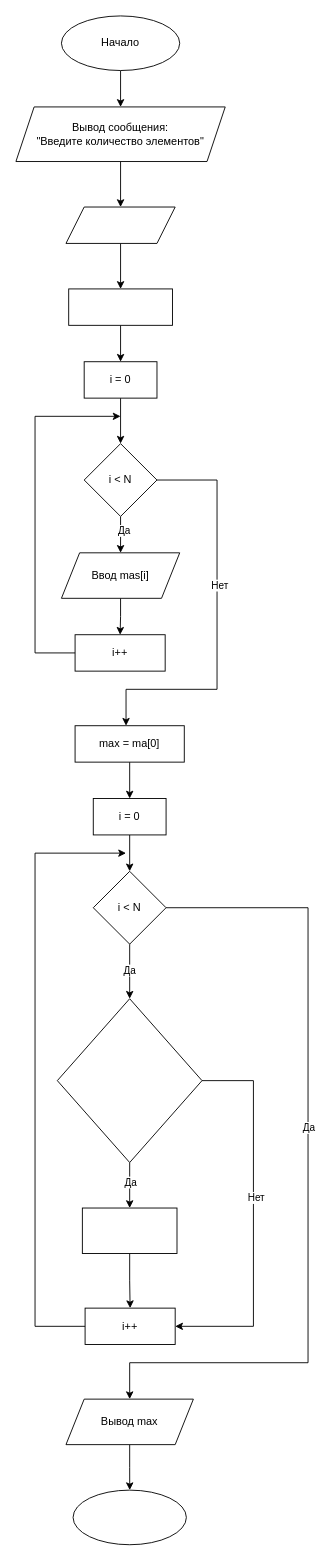
Some shapes in this 331 by 1561 pixel diagram are drawn without their labels. The shapes that lost their labels are listed below. From the top down, each one's centre as x and y in pixels, then its label:
[120,224]: Ввод N
[120,306]: *mas = new int[N]
[129,1080]: mas[i] > max and i % 2 ==0
[129,1230]: max = mas[i]
[129,1517]: Конец
